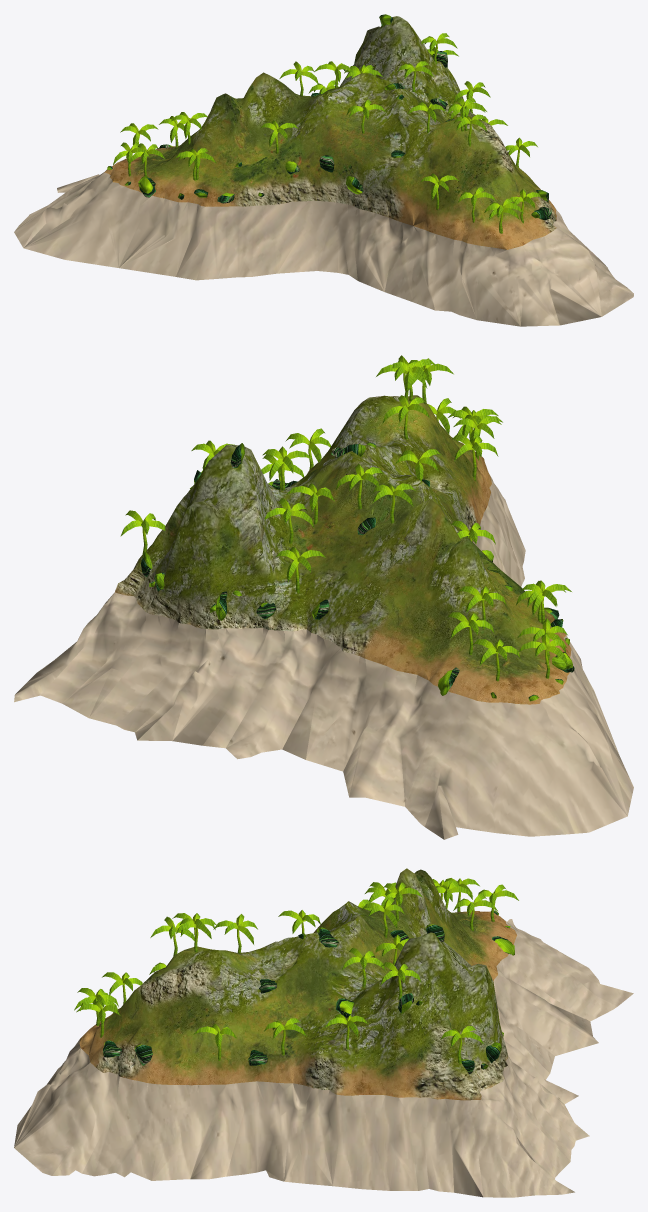
The model's file is island-t02.glb.
The picture shows the model from 3 angles, top to bottom: view 1: azimuth 30°, elevation 25°; view 2: azimuth 150°, elevation 25°; view 3: azimuth 270°, elevation 25°; orthographic projection. The views are drawn at different scales.
Parts seen in each view (by area): view 1: island; view 2: island; view 3: island.
Boxes of the visible parts, box(x1,y1,x2,y2) form: island: box(14, 14, 633, 326); island: box(14, 355, 633, 839); island: box(14, 868, 633, 1197).
Bounding box in the file's own units: 96.29 × 36.6 × 99.51.
Materials: 3 (3 with a texture image).
